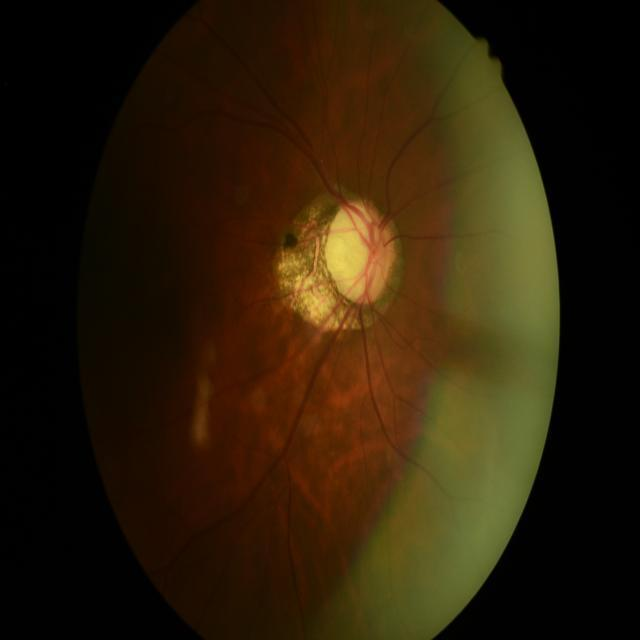cup: (328, 206, 381, 296)
disk: (326, 199, 396, 305)
